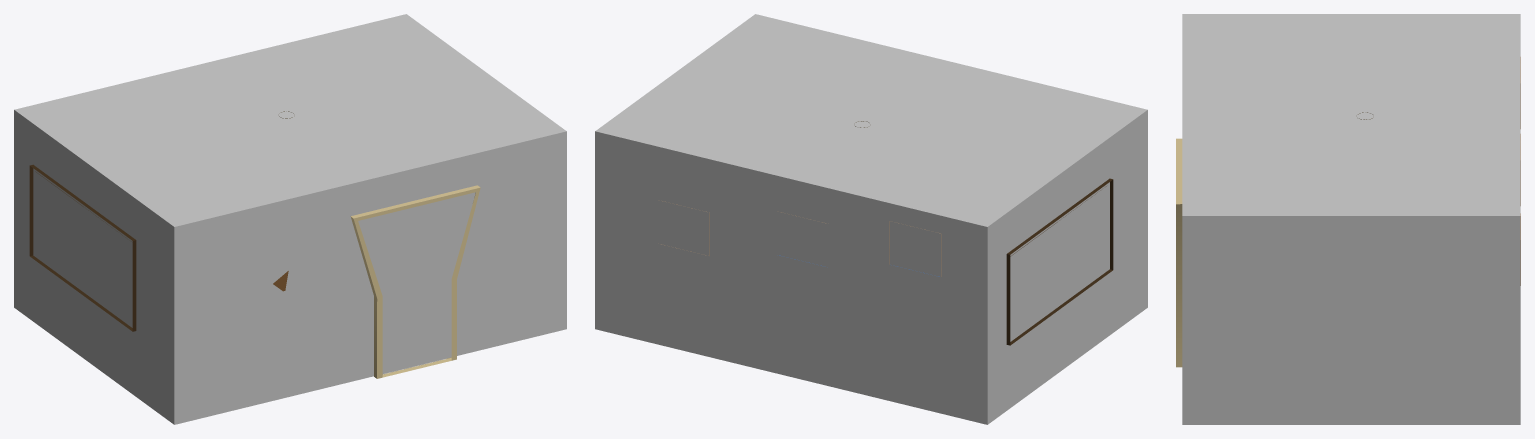
The model's file is creche interna.FBX.
The picture shows the model from 3 angles, left to right: view 1: azimuth 30°, elevation 25°; view 2: azimuth 150°, elevation 25°; view 3: azimuth 270°, elevation 25°; orthographic projection. The views are drawn at different scales.
Visible parts, largest first — view 1: Box01, Box02, Box03; view 2: Box01, Box03; view 3: Box01, Box02.
Part boxes in pixels (x1,y1,x2,y2): Box01: (14,14,566,424); Box02: (350,185,480,378); Box03: (29,164,136,331); Box01: (595,14,1147,424); Box03: (1006,178,1113,345); Box01: (1182,14,1520,424); Box02: (1176,138,1182,367).
Size of the model in its own units: 227 by 162 by 109.
